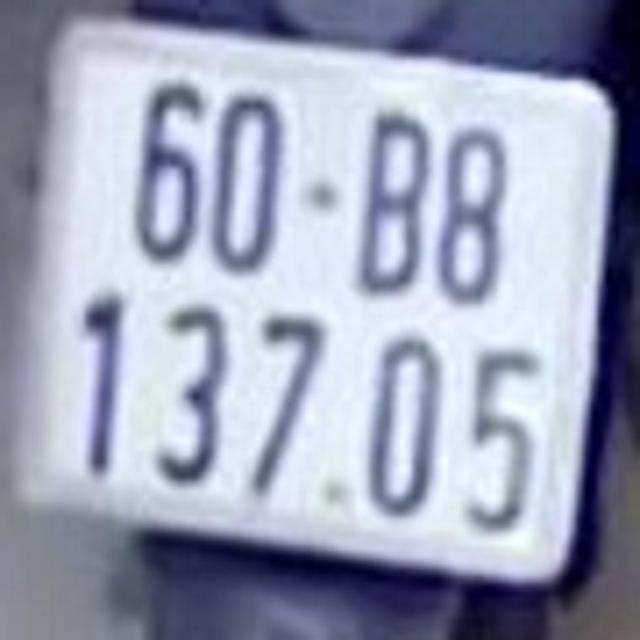0: (359, 303, 444, 531), (210, 61, 286, 286)
1: (54, 256, 151, 485)
3: (154, 266, 233, 497)
5: (461, 312, 546, 539)
6: (128, 51, 205, 280)
7: (247, 290, 330, 521)
8: (440, 82, 516, 321)
B: (357, 84, 433, 316)
